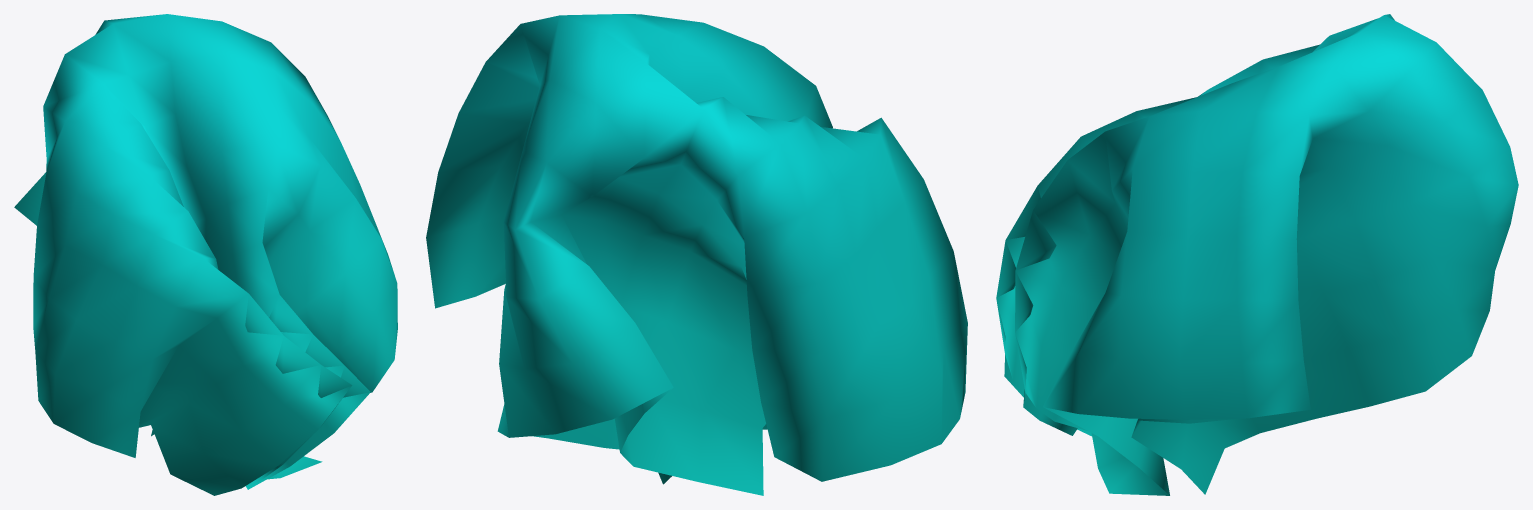
Rendered from CrumpledNapkin003.glb.
3 views of the same model, side by side, from view 1: azimuth 30°, elevation 25°; view 2: azimuth 150°, elevation 25°; view 3: azimuth 270°, elevation 25° (orthographic). The views are drawn at different scales.
Visible parts, largest first — view 1: CrumpledNapkin003; view 2: CrumpledNapkin003; view 3: CrumpledNapkin003.
Boxes of the visible parts, x1,y1,x2,y2 form: CrumpledNapkin003: [14, 14, 397, 495]; CrumpledNapkin003: [426, 14, 967, 495]; CrumpledNapkin003: [996, 14, 1518, 495].
Size of the model in its own units: 0.4601 by 0.5112 by 0.5366.
